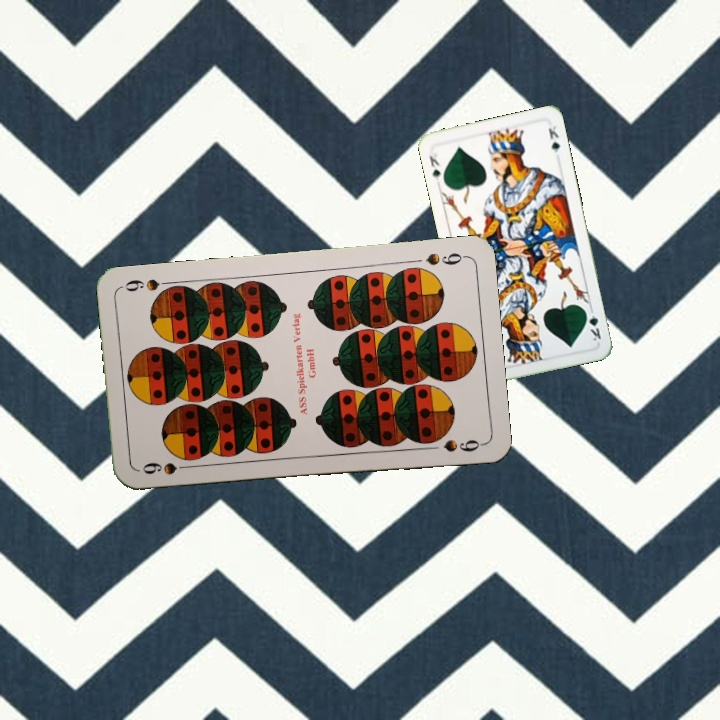GK: (581, 304, 604, 343), (425, 150, 443, 183)
S9: (138, 458, 196, 477), (422, 249, 469, 268)
